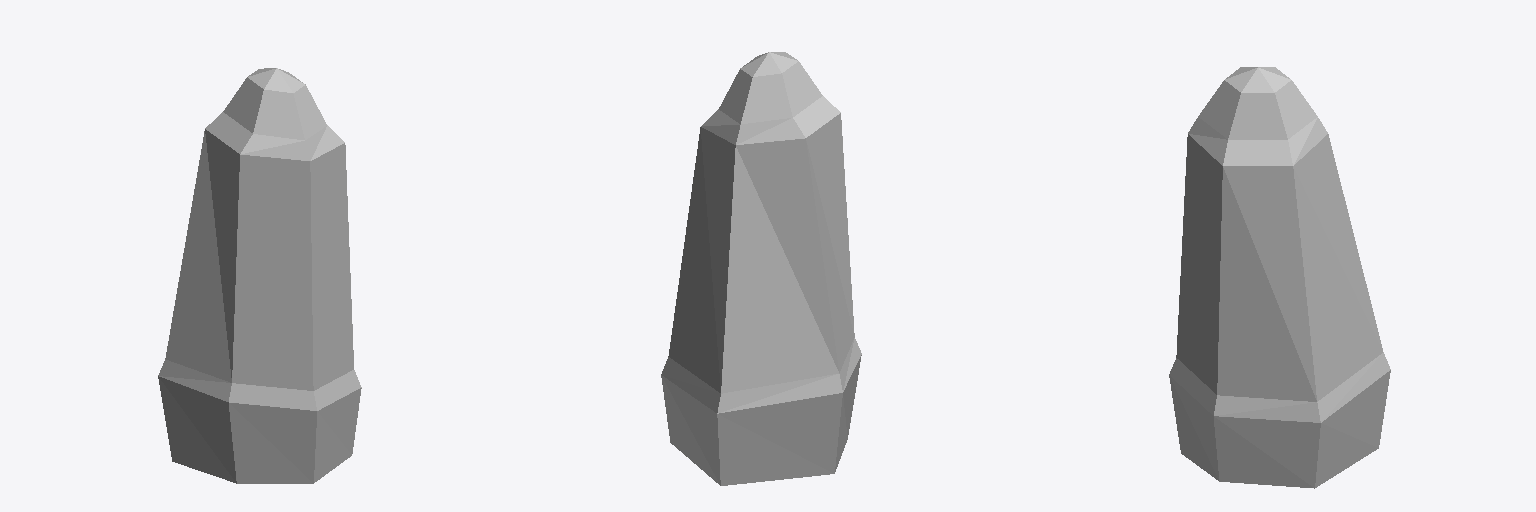
Rendered from rock__large.obj.
The picture shows the model from 3 angles: view 1: azimuth 30°, elevation 25°; view 2: azimuth 150°, elevation 25°; view 3: azimuth 270°, elevation 25°; orthographic projection.
Visible parts, largest first — view 1: Rock01.001_Sphere.002; view 2: Rock01.001_Sphere.002; view 3: Rock01.001_Sphere.002.
Part boxes in pixels (bbox=[...]): Rock01.001_Sphere.002: bbox=[158, 68, 361, 483]; Rock01.001_Sphere.002: bbox=[661, 52, 861, 485]; Rock01.001_Sphere.002: bbox=[1169, 67, 1390, 488].
Size of the model in its own units: 1.59 by 3.4 by 1.77.